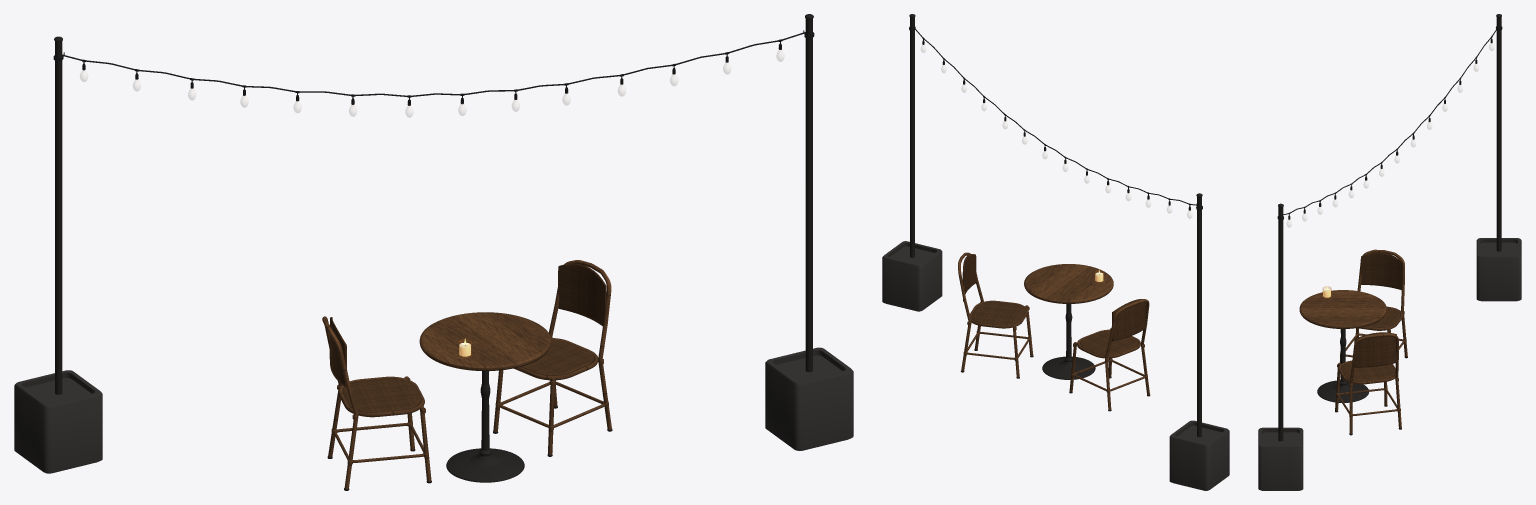
File: cafe.glb
3 renders of one model, left to right at view 1: azimuth 30°, elevation 25°; view 2: azimuth 150°, elevation 25°; view 3: azimuth 270°, elevation 25°, orthographic. The views are drawn at different scales.
Parts seen in each view (by area): view 1: string_posts, table, chair_r, chair_l, string_wire; view 2: string_posts, table, chair_l, chair_r, string_wire; view 3: string_posts, table, chair_r, chair_l, string_wire.
Boxes of the visible parts, bbox=[...] form: string_posts: bbox=[14, 14, 853, 473]; table: bbox=[419, 312, 551, 482]; chair_r: bbox=[493, 260, 612, 456]; chair_l: bbox=[322, 316, 431, 490]; string_wire: bbox=[62, 32, 805, 105]; string_posts: bbox=[882, 14, 1229, 490]; table: bbox=[1024, 264, 1113, 379]; chair_l: bbox=[1069, 299, 1150, 411]; chair_r: bbox=[958, 252, 1033, 378]; string_wire: bbox=[914, 28, 1196, 210]; string_posts: bbox=[1258, 14, 1521, 490]; table: bbox=[1299, 290, 1386, 402]; chair_r: bbox=[1335, 332, 1401, 435]; chair_l: bbox=[1339, 249, 1407, 362]; string_wire: bbox=[1283, 28, 1497, 219].
Size of the model in its own units: 3.96 by 2.46 by 2.11.
Materials: 16 (3 with a texture image).
